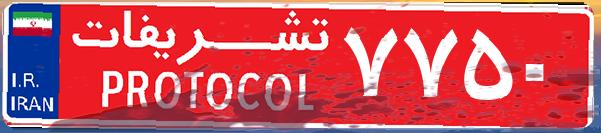0: (520, 20, 580, 115)
5: (460, 20, 520, 115)
7: (340, 20, 400, 115), (400, 20, 460, 115)
تشریفات: (60, 8, 340, 125)
